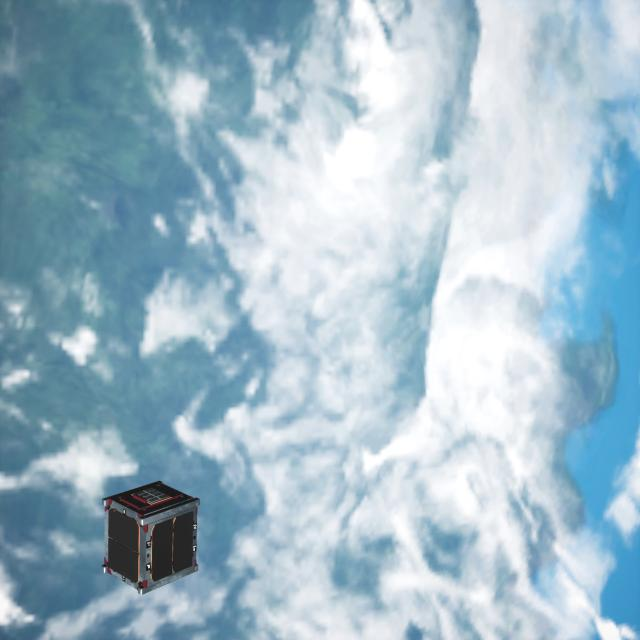medium_debris: (99, 478, 203, 592)
